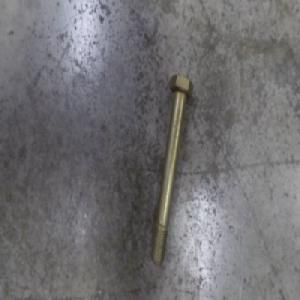Bolt: (149, 72, 193, 267)
